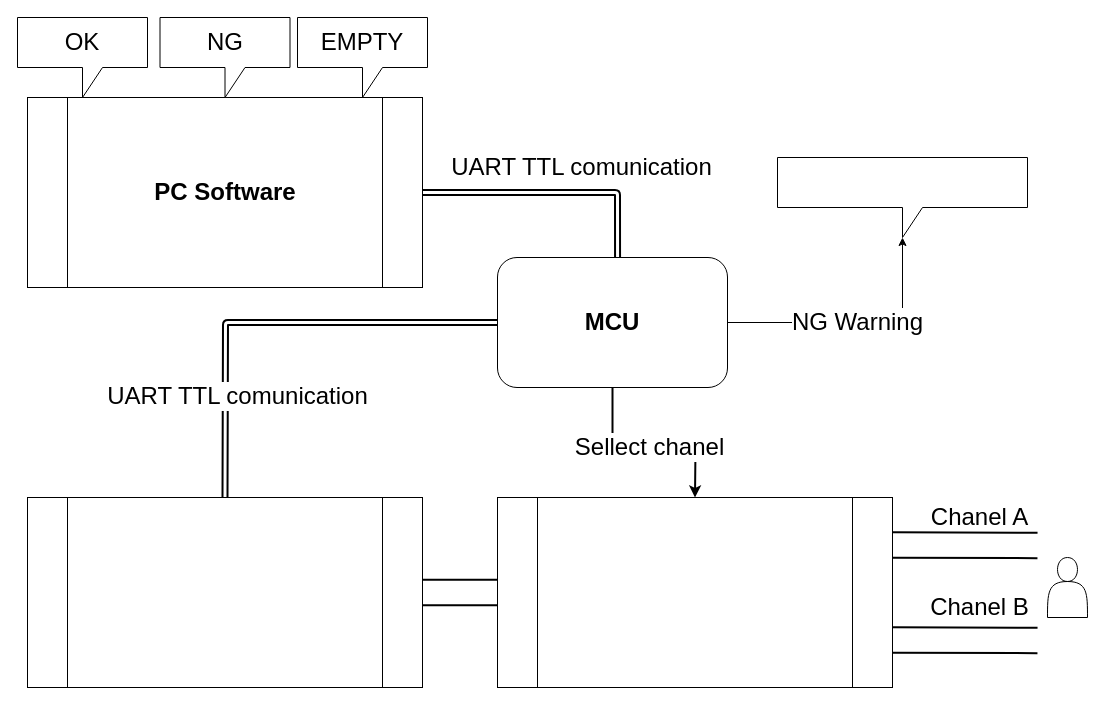
Image size: 1105x705. Some labels were removed from this diagram. Here are the shapes that lost their labels. From the top down, the box of each, then its label:
(776, 156, 1028, 238): Buzzer
(26, 496, 422, 688): IT8512A DC Electronic Load
(496, 496, 892, 688): RELAY (2 chanel or more)
